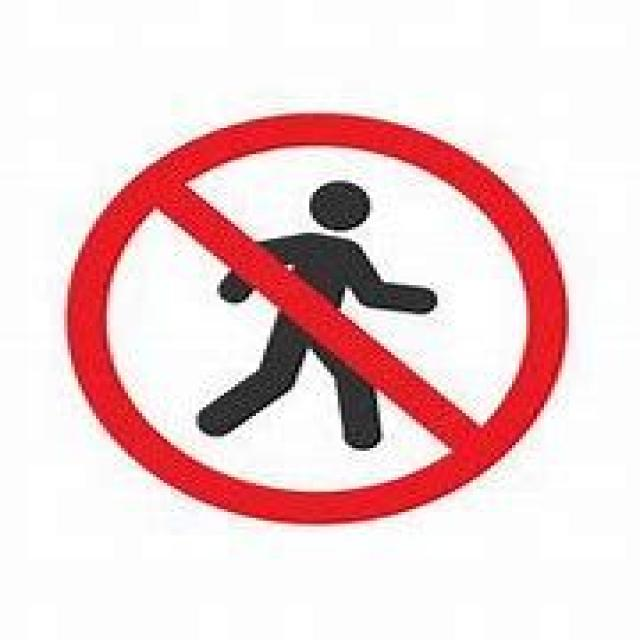Priority road: (57, 104, 572, 524)
